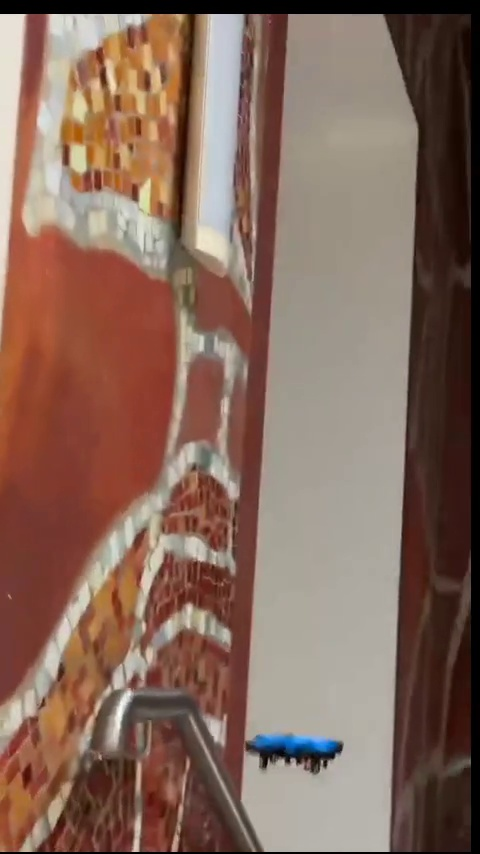drone: (244, 731, 345, 773)
